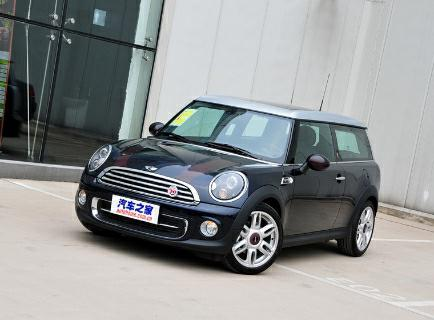MINI CLUBMAN: (73, 97, 382, 272)
